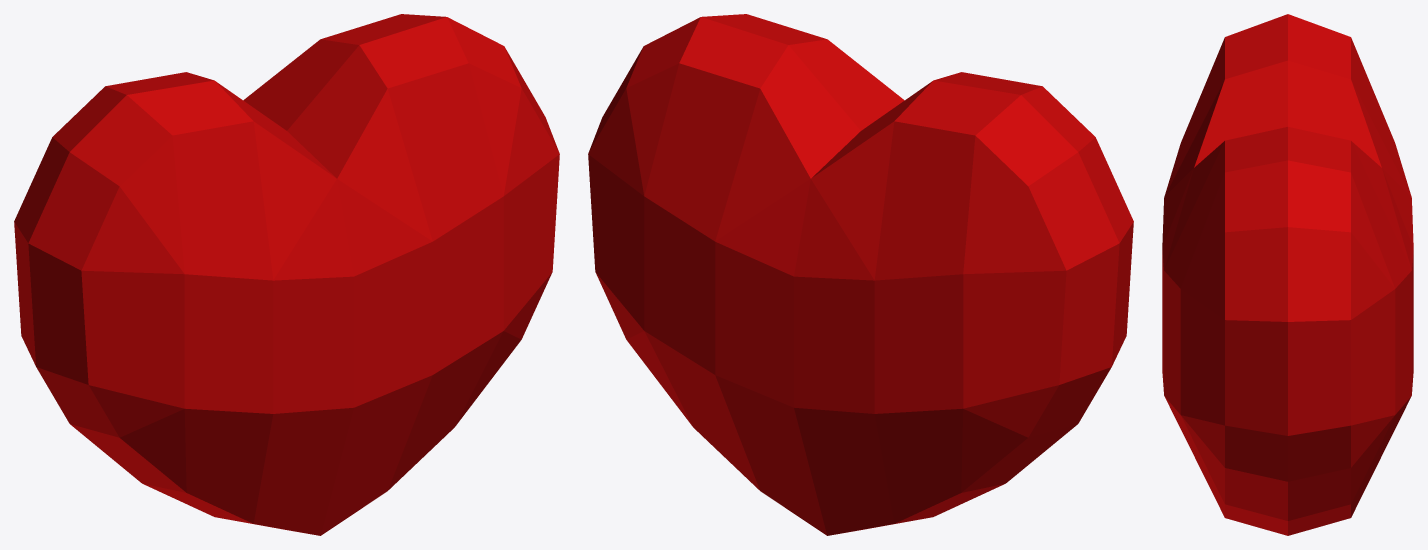
Rendered from Heart.fbx.
3 renders of one model, left to right at view 1: azimuth 30°, elevation 25°; view 2: azimuth 150°, elevation 25°; view 3: azimuth 270°, elevation 25°, orthographic. The views are drawn at different scales.
Visible parts, largest first — view 1: Mesh; view 2: Mesh; view 3: Mesh.
Boxes of the visible parts, <box> form: Mesh: <box>14,14,559,535</box>; Mesh: <box>588,14,1133,535</box>; Mesh: <box>1162,14,1413,535</box>.
Bounding box in the file's own units: 5.95 × 5.21 × 2.67.
